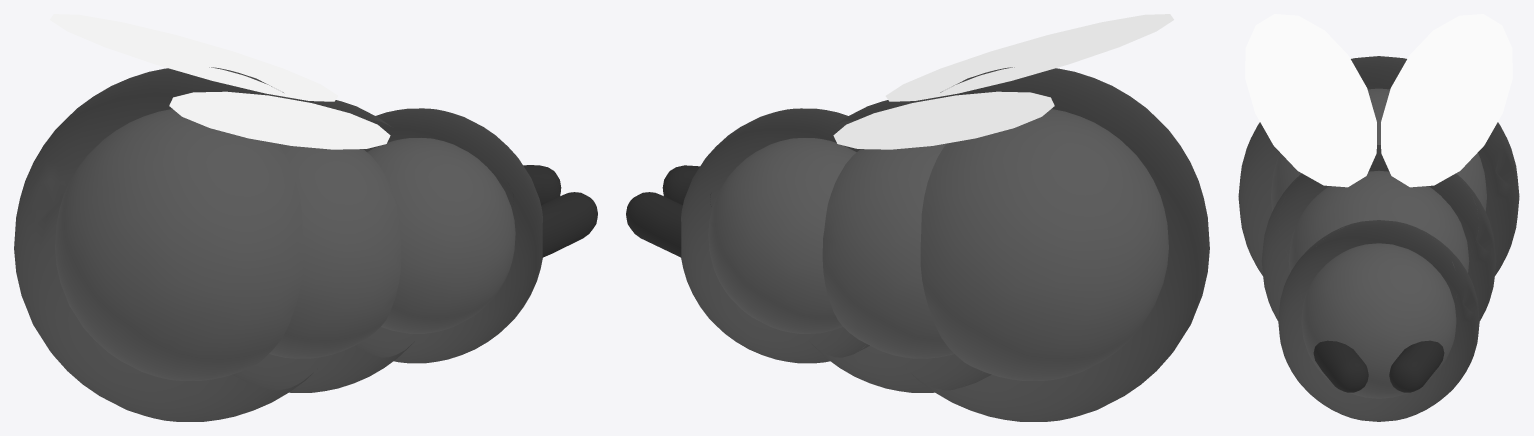
Rendered from queen.glb.
3 views of the same model, side by side, from view 1: azimuth 30°, elevation 25°; view 2: azimuth 150°, elevation 25°; view 3: azimuth 270°, elevation 25° (orthographic). The views are drawn at different scales.
Visible parts, largest first — view 1: Icosphere.032; view 2: Icosphere.032; view 3: Icosphere.032.
Boxes of the visible parts, x1,y1,x2,y2 form: Icosphere.032: (14, 14, 597, 421); Icosphere.032: (626, 14, 1209, 421); Icosphere.032: (1238, 14, 1519, 421).
Bounding box in the file's own units: 11.35 × 7.17 × 6.48.
Materials: 1 (1 with a texture image).
